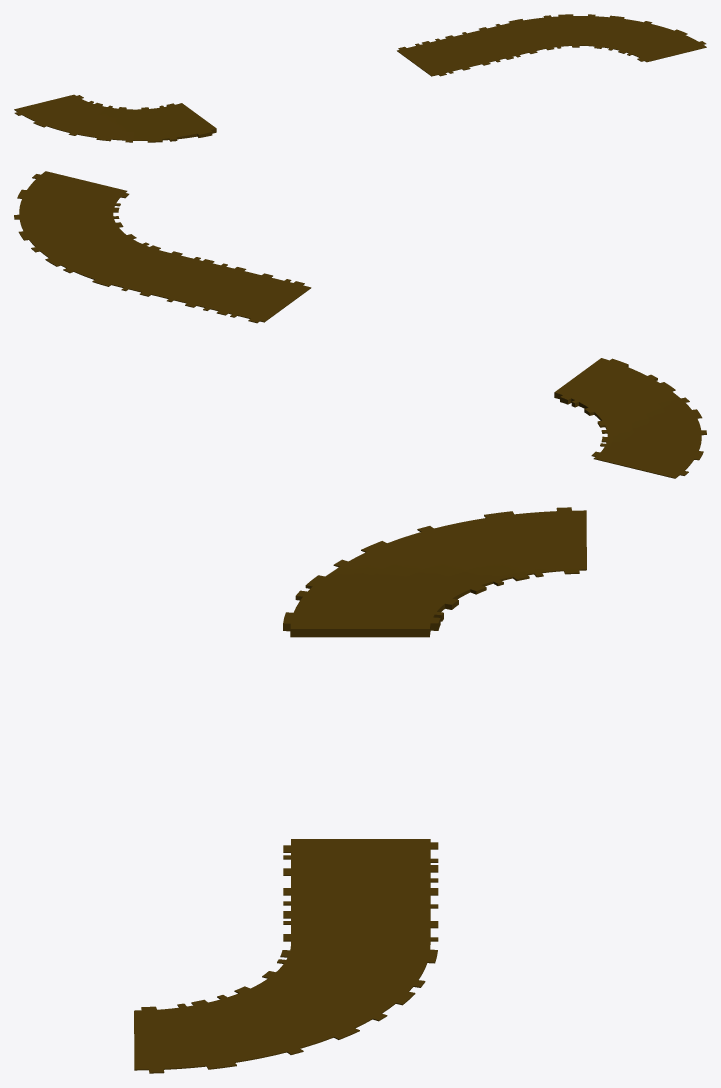
The model's file is Road.fbx.
3 renders of one model, top to bottom at view 1: azimuth 30°, elevation 25°; view 2: azimuth 150°, elevation 25°; view 3: azimuth 270°, elevation 25°, orthographic. The views are drawn at different scales.
Visible parts, largest first — view 1: Road_ground_11, Road_ground_3, Road_ground_2; view 2: Road_ground_11, Road_ground_3, Road_ground_2; view 3: Road_ground_11, Road_ground_3, Road_ground_2.
Boxes of the visible parts, x1,y1,x2,y2 form: Road_ground_11: (14, 94, 216, 142); Road_ground_3: (504, 14, 706, 62); Road_ground_2: (397, 24, 538, 76); Road_ground_11: (554, 358, 706, 478); Road_ground_3: (14, 171, 166, 286); Road_ground_2: (119, 251, 311, 323); Road_ground_11: (283, 507, 586, 637); Road_ground_3: (134, 943, 437, 1073); Road_ground_2: (283, 839, 438, 943).
Size of the model in its own units: 175 by 1.18 by 58.43.
